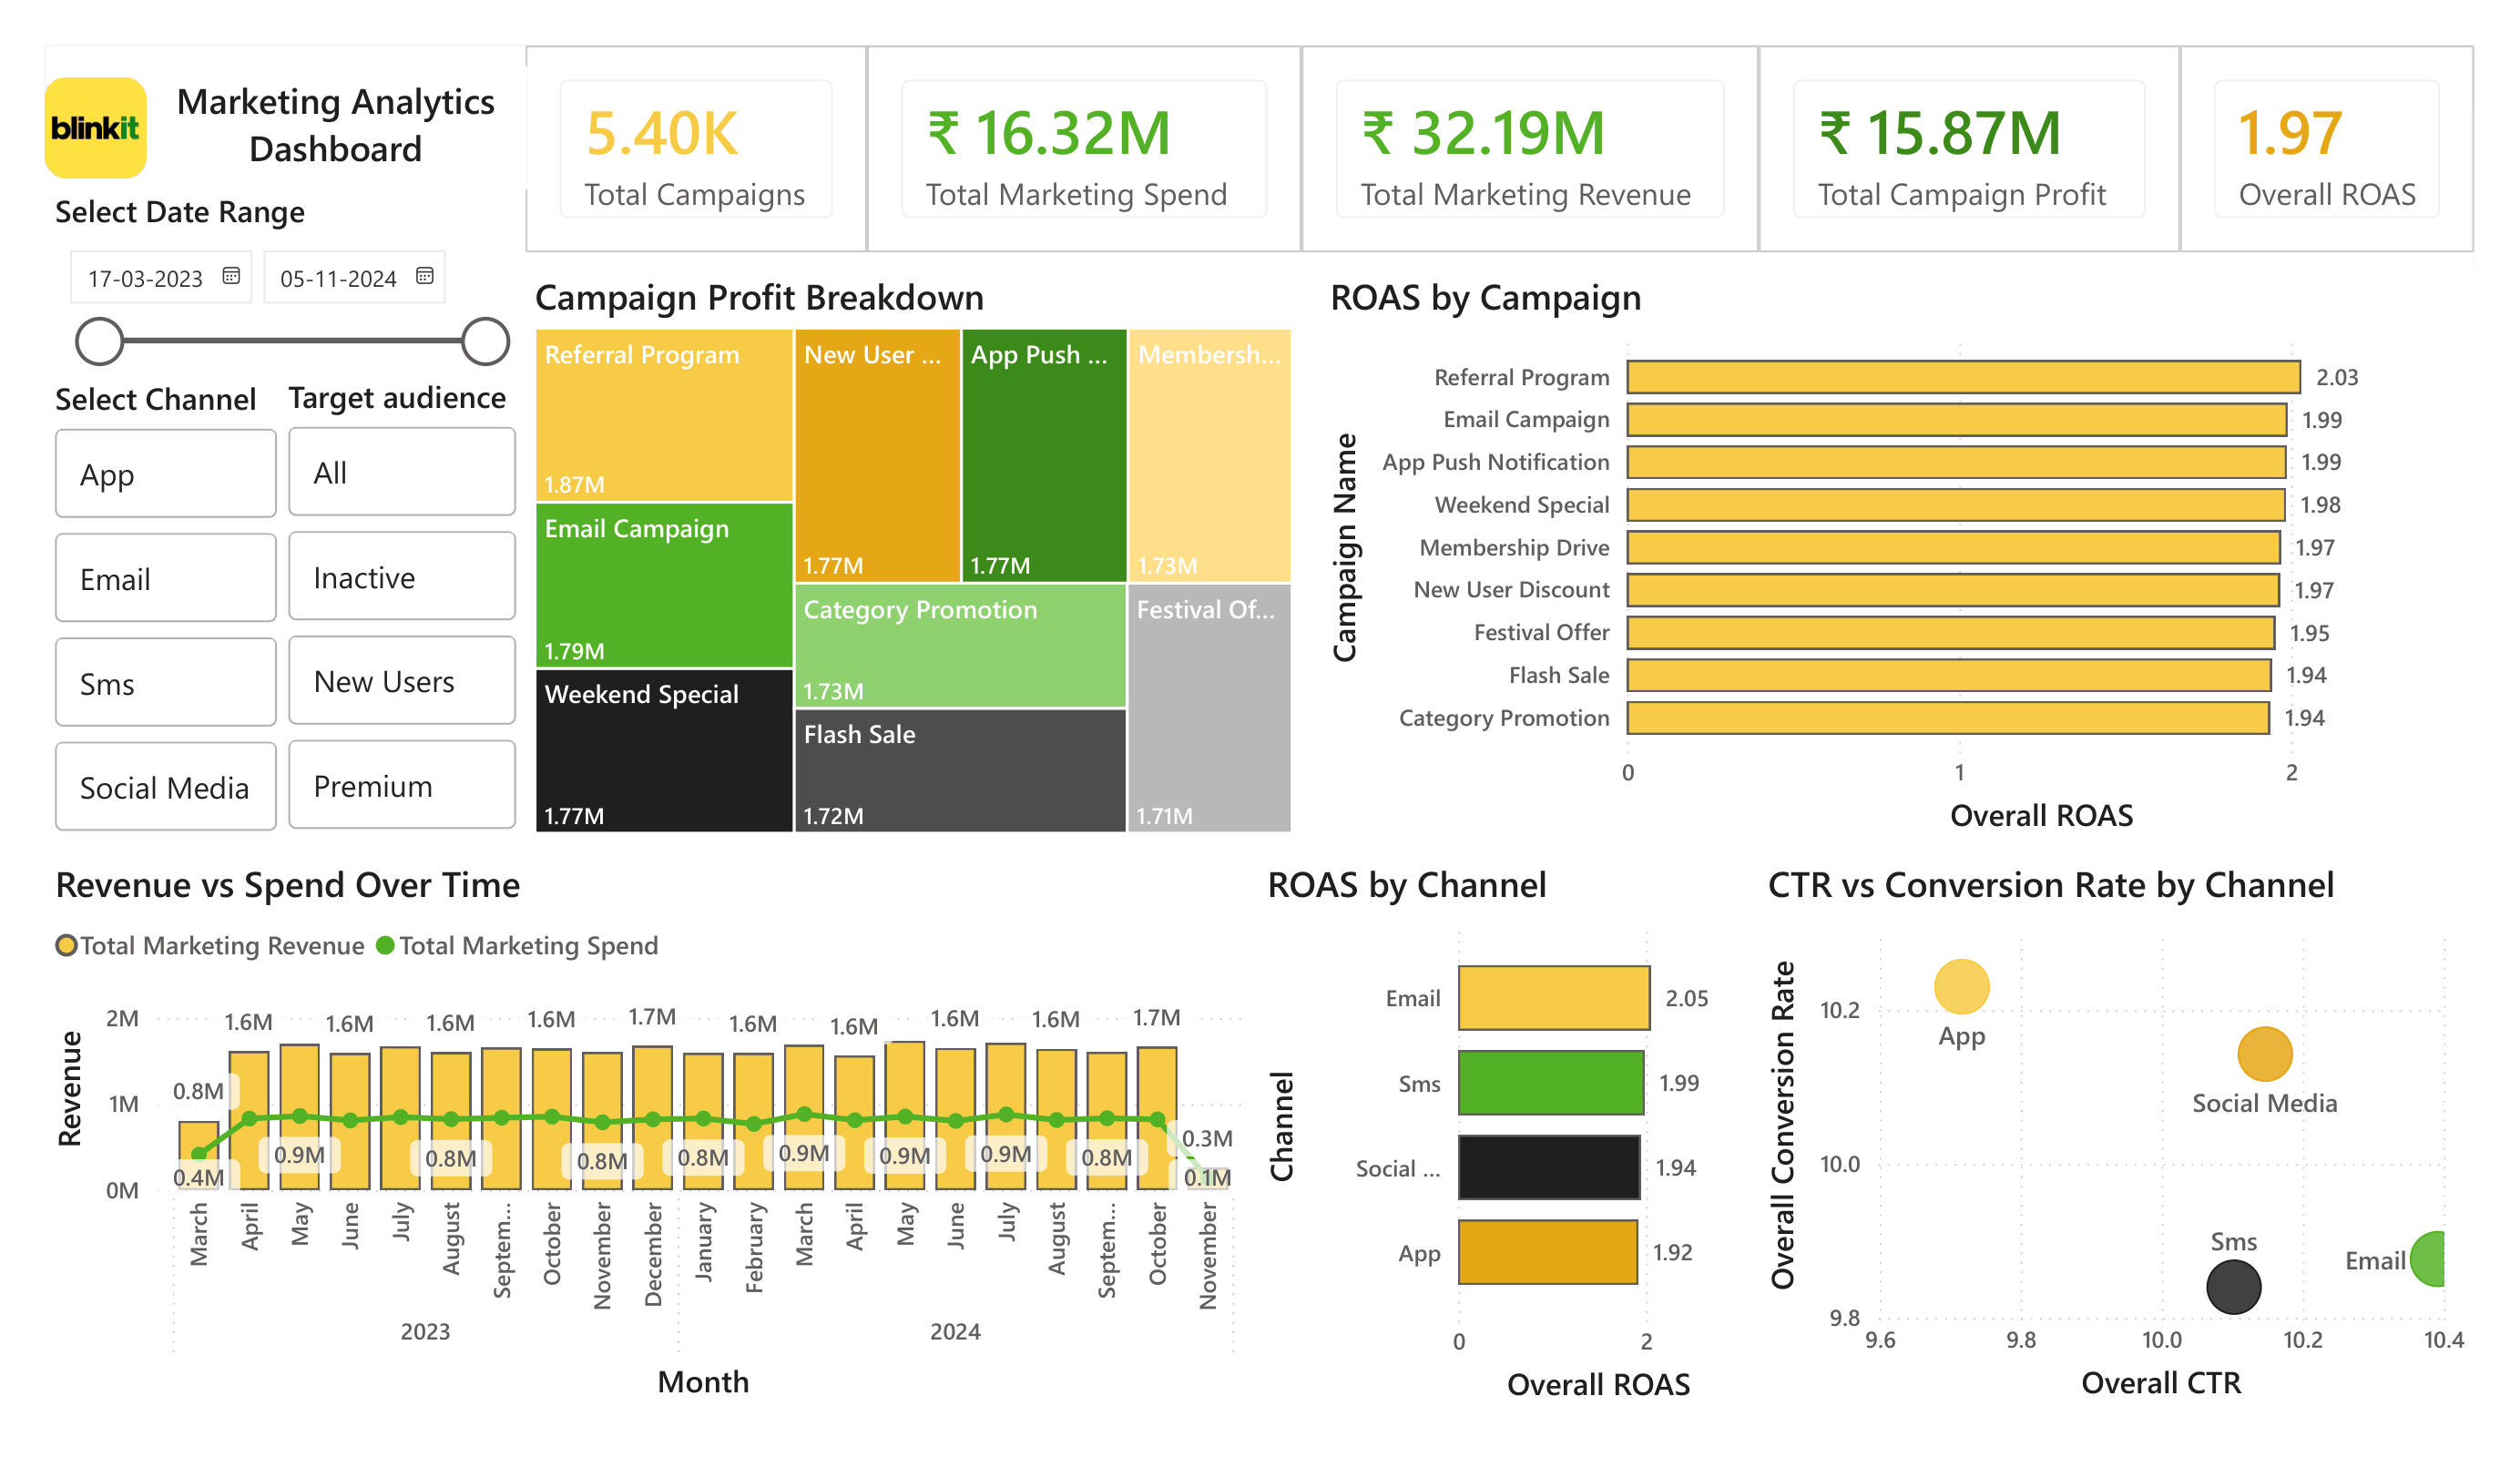

This screenshot's page, from the dashboard's own definition file:
{"tool":"powerbi","page":{"name":"Marketing Analytics Dashboard","canvas":[1280,720],"ordinal":4},"visuals":[{"type":"cardVisual","fields":{"Data":["measures_table.Total Campaigns"]},"box":[253.5,0,179.2,108.8],"z":0},{"type":"cardVisual","fields":{"Data":["measures_table.Total Marketing Spend"]},"box":[432.7,0,229.2,108.8],"z":1000},{"type":"cardVisual","fields":{"Data":["measures_table.Total Marketing Revenue"]},"box":[661.9,0,240.7,108.8],"z":2000},{"type":"cardVisual","fields":{"Data":["measures_table.Total Campaign Profit"]},"box":[902.6,0,222.8,108.8],"z":3000},{"type":"cardVisual","fields":{"Data":["measures_table.Overall ROAS"]},"box":[1125.3,0,154.9,108.8],"z":4000},{"type":"textbox","box":[52.2,11.2,201.5,64.7],"z":5000},{"type":"treemap","title":"Campaign Profit Breakdown","fields":{"Group":["marketing_features.campaign_name"],"Values":["measures_table.Total Campaign Profit"]},"box":[253.5,119.1,408.4,300.9],"z":6000},{"type":"barChart","title":"ROAS by Campaign","fields":{"Category":["marketing_features.campaign_name"],"Y":["measures_table.Overall ROAS"]},"box":[671.7,119.4,608.3,301],"z":7000},{"type":"scatterChart","title":"CTR vs Conversion Rate by Channel","fields":{"X":["measures_table.Overall CTR"],"Y":["measures_table.Overall Conversion Rate"],"Size":["measures_table.Total Marketing Revenue"],"Series":["marketing_features.channel"]},"box":[903.1,429.2,376.9,289.8],"z":8000},{"type":"lineClusteredColumnComboChart","title":"Revenue vs Spend Over Time","fields":{"Y":["measures_table.Total Marketing Revenue"],"Y2":["measures_table.Total Marketing Spend"],"Category":["marketing_features.date.Variation.Date Hierarchy.Year","marketing_features.date.Variation.Date Hierarchy.Month"]},"box":[0,429.2,639.4,289.8],"z":9000},{"type":"slicer","title":"Select Date Range","fields":{"Values":["marketing_features.date"]},"box":[0,75.5,253.5,98.6],"z":10000},{"type":"advancedSlicerVisual","title":"Select Channel","fields":{"Values":["marketing_features.channel"]},"box":[0,175.4,126.7,244.5],"z":11000},{"type":"advancedSlicerVisual","title":"Target audience","fields":{"Values":["marketing_features.target_audience"]},"box":[122.9,174.1,130.6,245.8],"z":12000},{"type":"clusteredBarChart","title":"ROAS by Channel","fields":{"Category":["marketing_features.channel"],"Y":["measures_table.Overall ROAS"]},"box":[639.4,429.2,262.5,291.1],"z":13000},{"type":"image","box":[0,17.4,53,53],"z":14000}]}

Visuals, with their boxes on the page's 1280x720 design canvas (x1, y1, x2, y2). These are canvas units, not pixel positions in the 2520x1457 screenshot, which may show the page scaled, cropped or inside an application window:
cardVisual - measures_table.Total Campaigns: pyautogui.locateOnScreen(254, 0, 433, 109)
cardVisual - measures_table.Total Marketing Spend: pyautogui.locateOnScreen(433, 0, 662, 109)
cardVisual - measures_table.Total Marketing Revenue: pyautogui.locateOnScreen(662, 0, 903, 109)
cardVisual - measures_table.Total Campaign Profit: pyautogui.locateOnScreen(903, 0, 1125, 109)
cardVisual - measures_table.Overall ROAS: pyautogui.locateOnScreen(1125, 0, 1280, 109)
textbox: pyautogui.locateOnScreen(52, 11, 254, 76)
"Campaign Profit Breakdown" treemap: pyautogui.locateOnScreen(254, 119, 662, 420)
"ROAS by Campaign" barChart: pyautogui.locateOnScreen(672, 119, 1280, 420)
"CTR vs Conversion Rate by Channel" scatterChart: pyautogui.locateOnScreen(903, 429, 1280, 719)
"Revenue vs Spend Over Time" lineClusteredColumnComboChart: pyautogui.locateOnScreen(0, 429, 639, 719)
"Select Date Range" slicer: pyautogui.locateOnScreen(0, 76, 254, 174)
"Select Channel" advancedSlicerVisual: pyautogui.locateOnScreen(0, 175, 127, 420)
"Target audience" advancedSlicerVisual: pyautogui.locateOnScreen(123, 174, 254, 420)
"ROAS by Channel" clusteredBarChart: pyautogui.locateOnScreen(639, 429, 902, 720)
image: pyautogui.locateOnScreen(0, 17, 53, 70)
